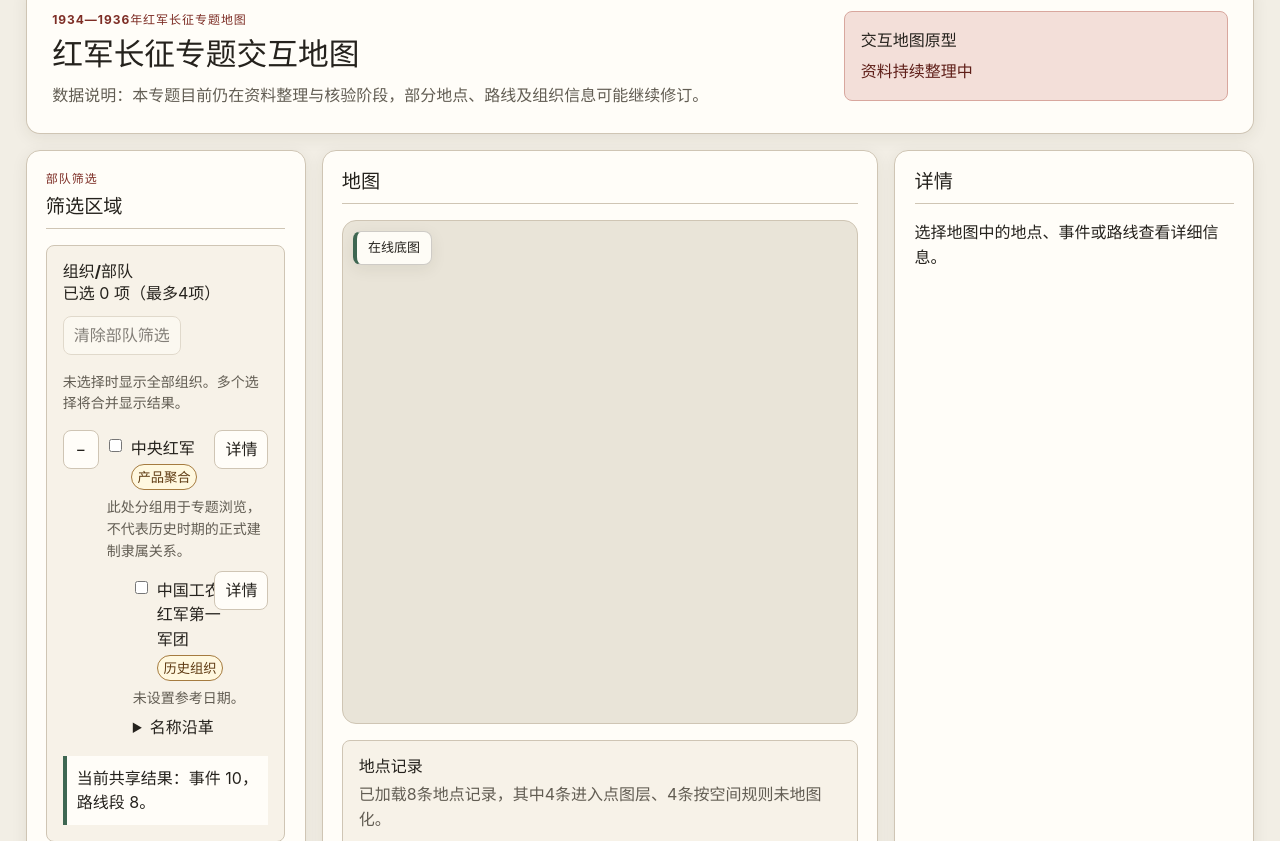
Test: application layout and map integration › filters central aggregate routes and the explicit member event through one shared result
Click the checkbox labelled "中央红军 产品聚合": click(115, 446) [109, 439, 122, 452]
(page scrolled)
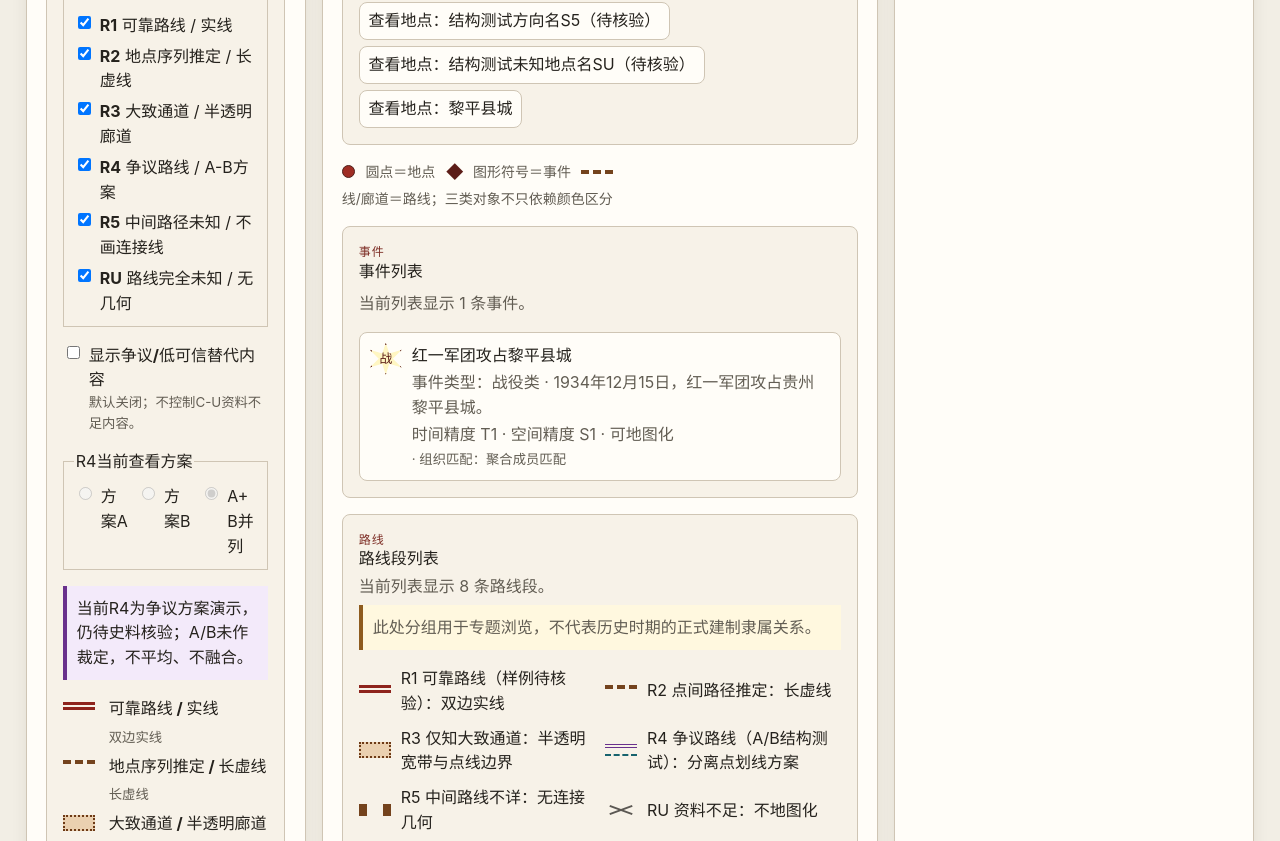
Result: the button "红一军团攻占黎平县城" shows "组织匹配：聚合成员匹配" at [359, 332, 841, 481]
